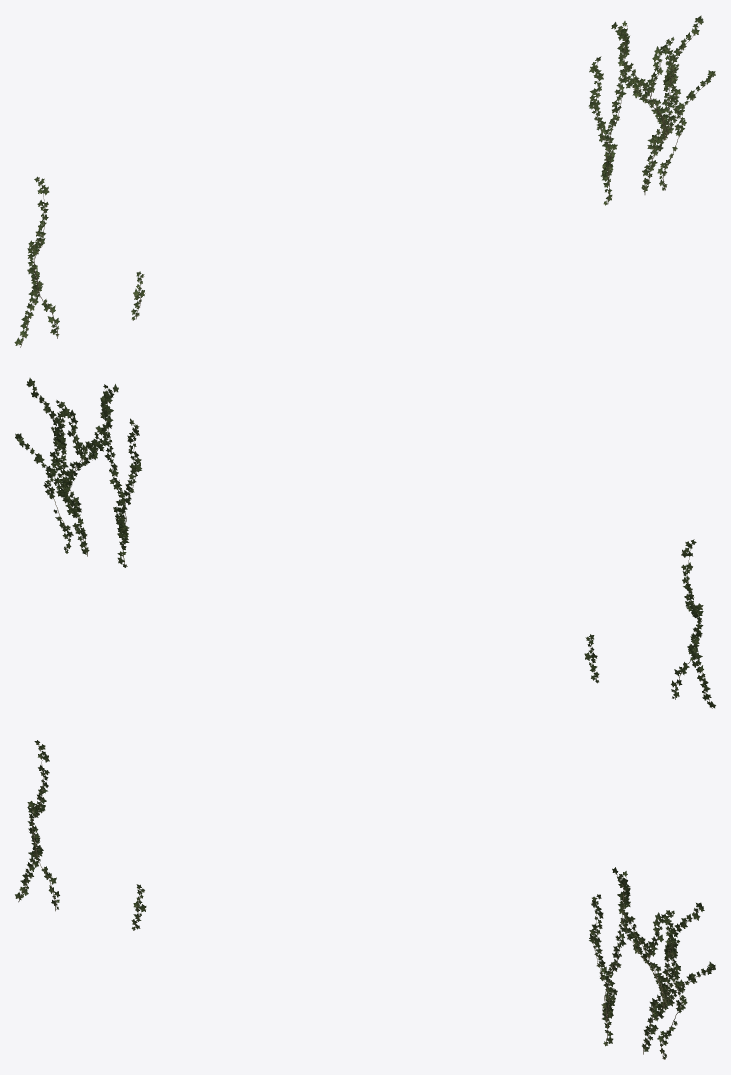
The model's file is building-ivy.glb.
3 views of the same model, one above another, from view 1: azimuth 30°, elevation 25°; view 2: azimuth 150°, elevation 25°; view 3: azimuth 330°, elevation 25° (orthographic).
Visible parts, largest first — view 1: building-ivy-trial; view 2: building-ivy-trial; view 3: building-ivy-trial.
Boxes of the visible parts, x1,y1,x2,y2 form: building-ivy-trial: (14, 15, 715, 347); building-ivy-trial: (15, 378, 715, 708); building-ivy-trial: (15, 740, 715, 1059).
Bounding box in the file's own units: 13.39 × 3.35 × 0.0708.
2 materials, 1 textured.
